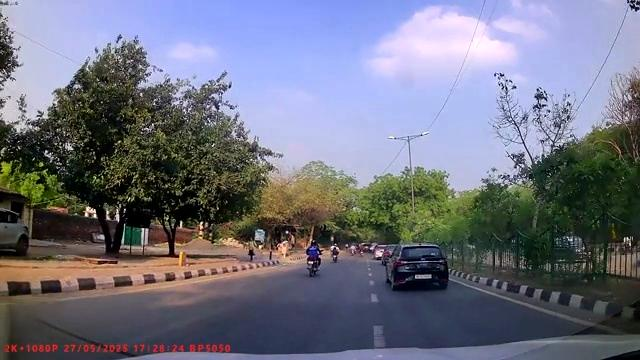motorcycle_with_helmet: (305, 239, 322, 277)
